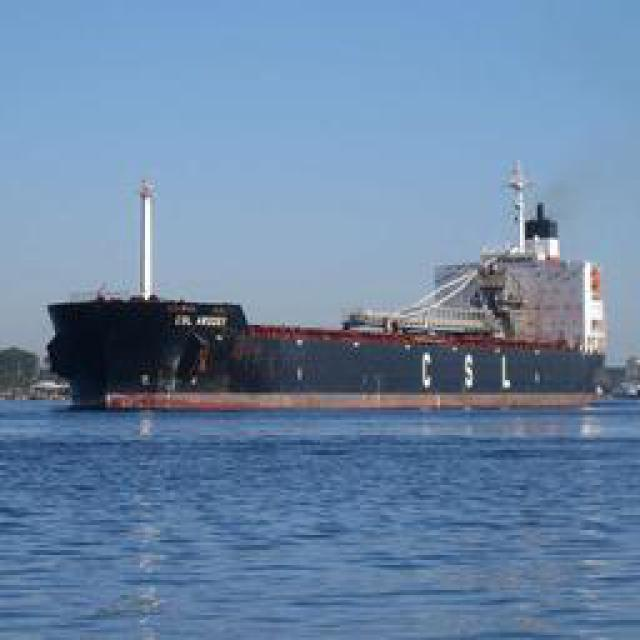Ship: (73, 152, 621, 405)
